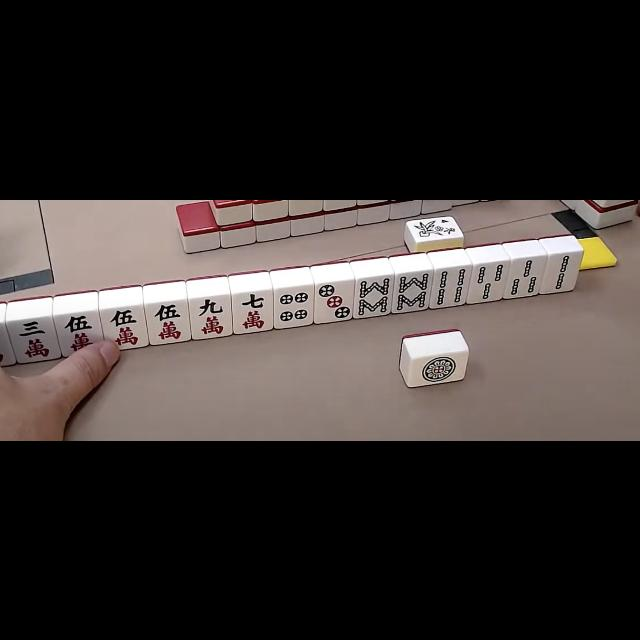b2: (545, 253, 579, 290)
b3: (508, 256, 544, 296), (471, 262, 507, 300)
b4: (433, 266, 469, 306)
b8: (355, 274, 393, 318), (395, 271, 431, 311)
c3: (12, 318, 56, 360)
c5: (147, 300, 189, 342), (102, 306, 144, 346), (58, 311, 100, 351)
c7: (232, 292, 272, 332)
c9: (190, 295, 230, 337)
d1: (410, 354, 466, 384)
d3: (315, 280, 353, 320)
d4: (274, 286, 312, 326)
s4: (438, 216, 458, 238)
